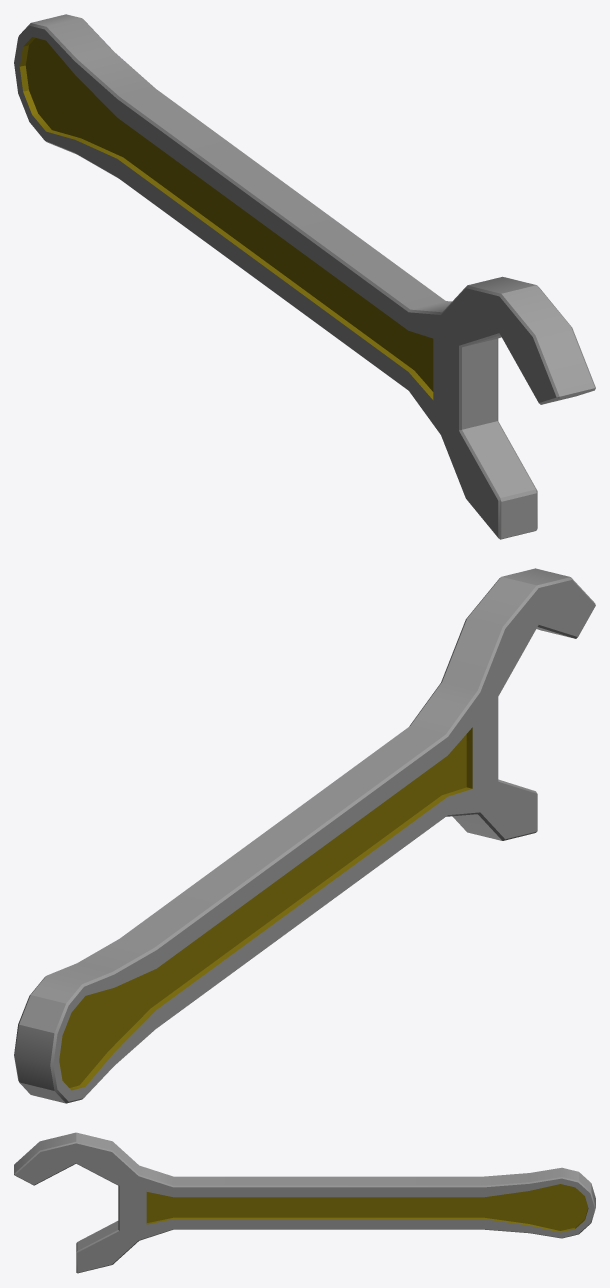
The model's file is Wrench.fbx.
3 views of the same model, one above another, from view 1: azimuth 30°, elevation 25°; view 2: azimuth 150°, elevation 25°; view 3: azimuth 270°, elevation 25° (orthographic). The views are drawn at different scales.
Parts seen in each view (by area): view 1: Wrench1; view 2: Wrench1; view 3: Wrench1.
Part boxes in pixels (box(x1,y1,x2,y2)): Wrench1: box(14, 14, 595, 539); Wrench1: box(14, 568, 595, 1103); Wrench1: box(14, 1132, 595, 1273).
Size of the model in its own units: 5 by 29.94 by 120.
Materials: 1 (1 with a texture image).
